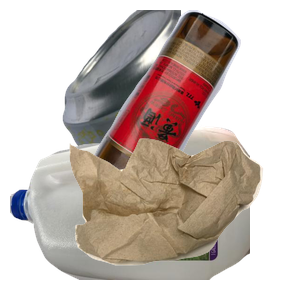glass: (85, 10, 300, 190)
metal: (60, 10, 300, 190)
plastic: (10, 120, 250, 300)
trash: (67, 136, 300, 300)
